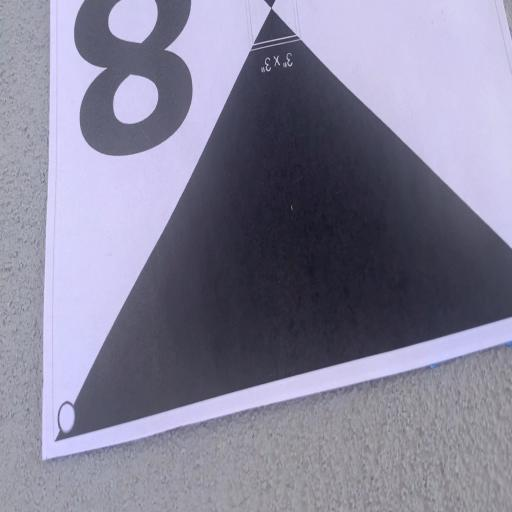target8: (42, 1, 512, 462)
